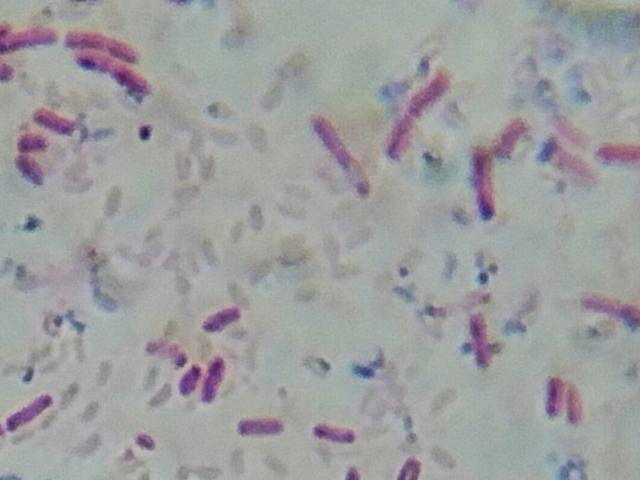E. coli: (378, 68, 453, 167), (313, 118, 368, 204), (79, 53, 153, 99), (588, 287, 640, 335), (69, 26, 141, 58), (4, 390, 57, 430), (464, 308, 494, 370), (473, 148, 497, 225), (29, 101, 73, 136), (496, 110, 527, 157), (204, 296, 242, 334), (2, 25, 58, 49), (309, 421, 360, 446), (204, 350, 225, 406), (563, 381, 586, 431), (14, 155, 52, 184), (390, 449, 425, 480), (242, 415, 283, 440), (546, 377, 565, 423), (15, 134, 46, 154), (183, 359, 200, 395), (0, 55, 15, 81)
